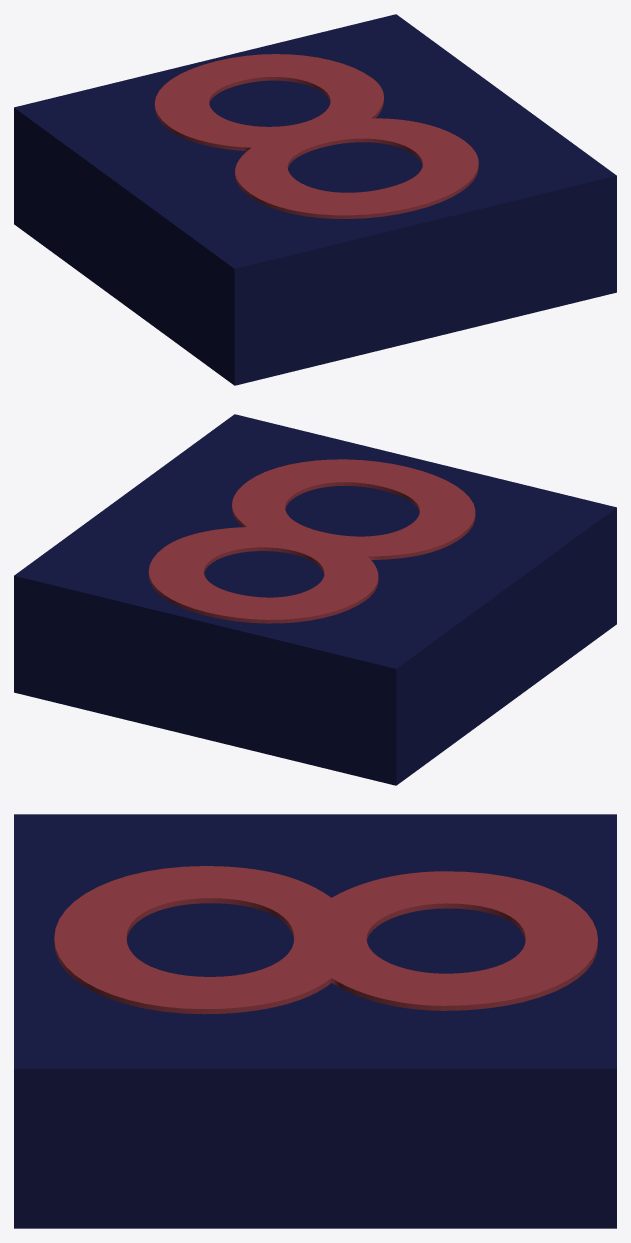
Rendered from eight-pad.fbx.
3 views of the same model, one above another, from view 1: azimuth 30°, elevation 25°; view 2: azimuth 150°, elevation 25°; view 3: azimuth 270°, elevation 25° (orthographic). The views are drawn at different scales.
Parts seen in each view (by area): view 1: Cube, Text; view 2: Cube, Text; view 3: Cube, Text.
Boxes of the visible parts, left/top/right/bottom form: Cube: left=14, top=14, right=616, bottom=385; Text: left=154, top=54, right=478, bottom=218; Cube: left=14, top=414, right=616, bottom=785; Text: left=148, top=459, right=475, bottom=623; Cube: left=14, top=814, right=616, bottom=1228; Text: left=54, top=866, right=597, bottom=1014.
Bounding box in the file's own units: 200 × 60.26 × 200.
